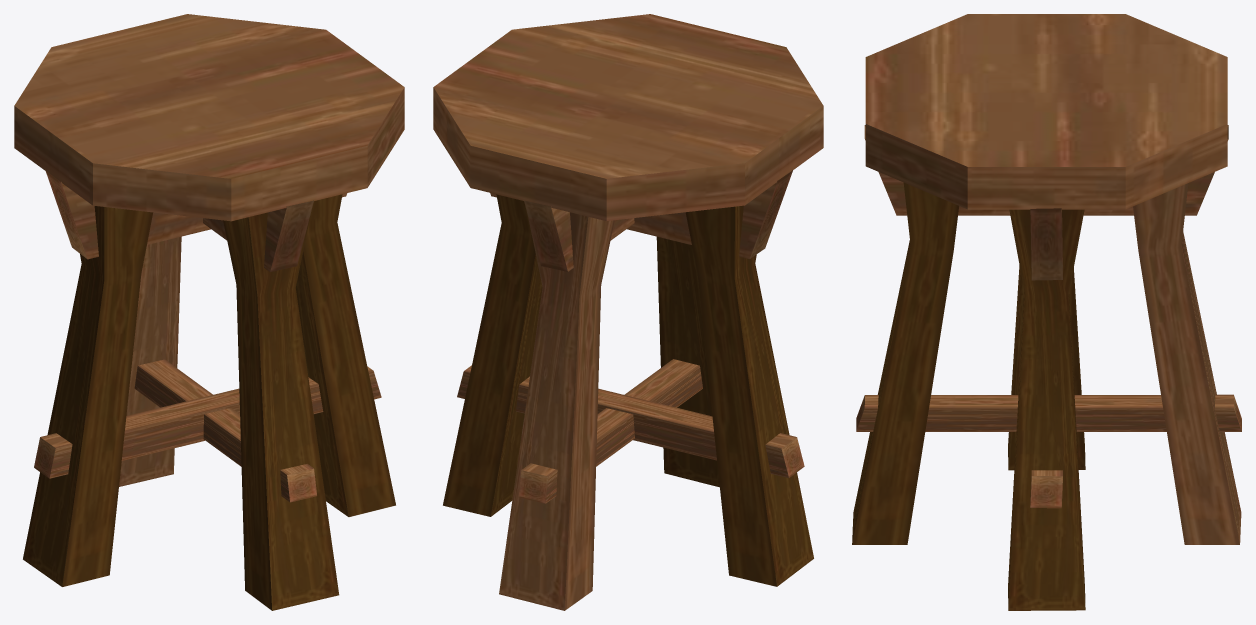
The model's file is quaternius-fantasy-props-stool.glb.
3 renders of one model, left to right at view 1: azimuth 30°, elevation 25°; view 2: azimuth 150°, elevation 25°; view 3: azimuth 270°, elevation 25°, orthographic.
Parts seen in each view (by area): view 1: Stool; view 2: Stool; view 3: Stool.
Part boxes in pixels (<box>): Stool: <box>14,14,404,610</box>; Stool: <box>433,14,823,610</box>; Stool: <box>852,14,1241,610</box>.
Size of the model in its own units: 0.524 by 0.65 by 0.524.
1 material, 1 textured.
